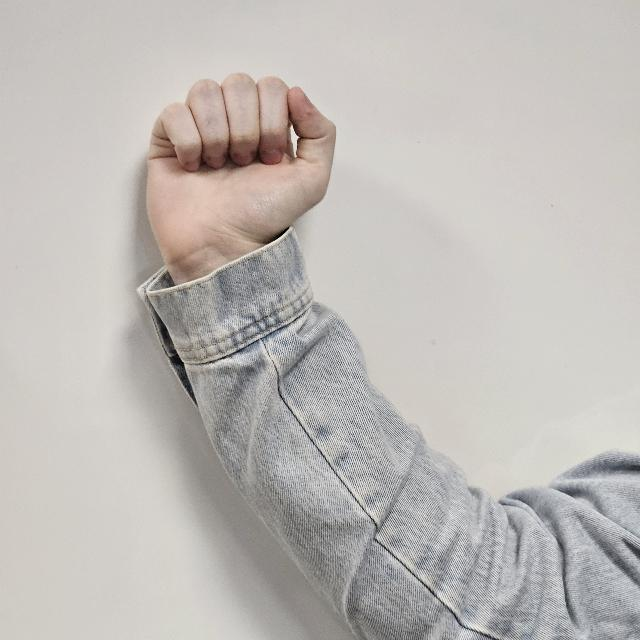Quadro: (138, 74, 334, 242)
